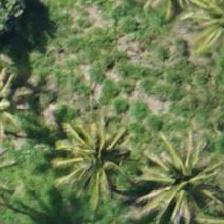coconut_tree: (51, 108, 141, 198), (143, 137, 223, 223)
